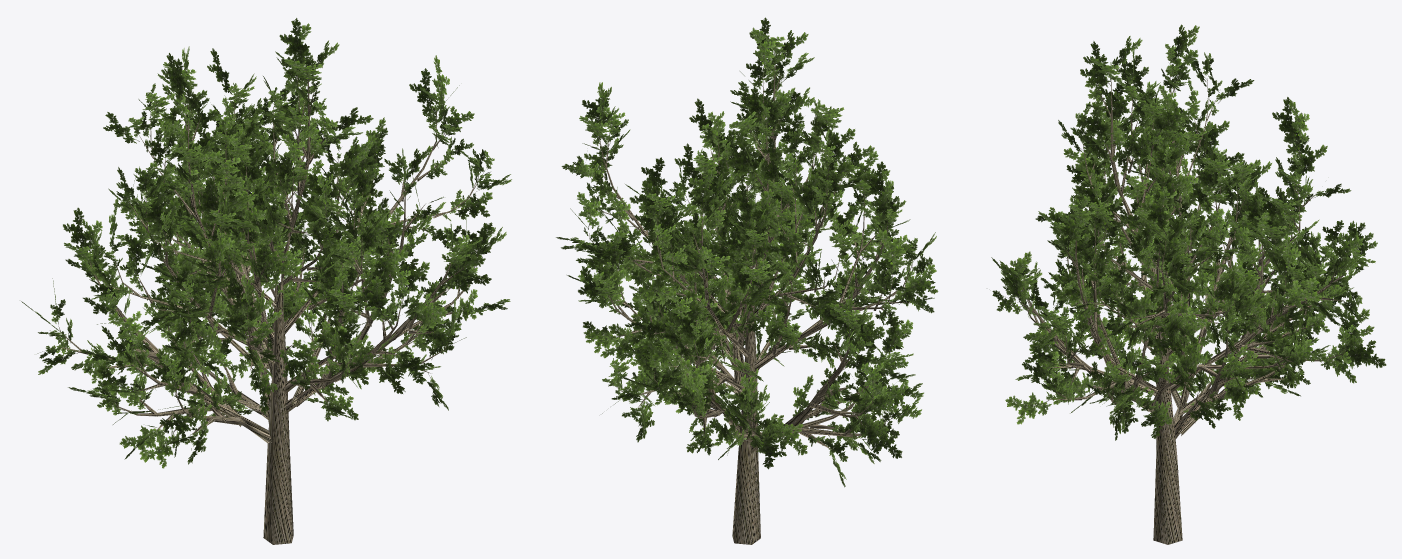
File: tree_LOD2.glb
The picture shows the model from 3 angles, left to right: view 1: azimuth 30°, elevation 25°; view 2: azimuth 150°, elevation 25°; view 3: azimuth 270°, elevation 25°; orthographic projection. The views are drawn at different scales.
Visible parts, largest first — view 1: Leaves_LOD2, Branches_LOD2; view 2: Leaves_LOD2, Branches_LOD2; view 3: Leaves_LOD2, Branches_LOD2.
Boxes of the visible parts, x1,y1,x2,y2 form: Leaves_LOD2: [21, 18, 511, 468]; Branches_LOD2: [53, 76, 484, 544]; Leaves_LOD2: [556, 17, 938, 487]; Branches_LOD2: [589, 64, 912, 544]; Leaves_LOD2: [991, 24, 1386, 440]; Branches_LOD2: [1019, 64, 1346, 544].
Bounding box in the file's own units: 89.79 × 108 × 79.94.
2 materials, 2 textured.
